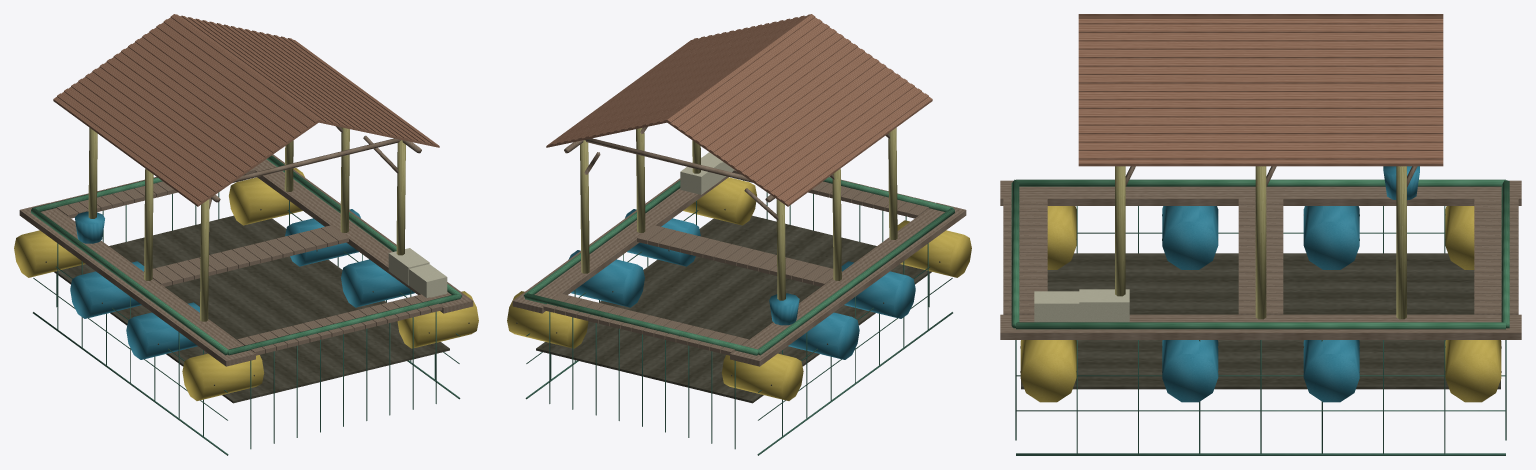
Rendered from bung-raft-0-rust.glb.
The picture shows the model from 3 angles, left to right: view 1: azimuth 30°, elevation 25°; view 2: azimuth 150°, elevation 25°; view 3: azimuth 270°, elevation 25°; orthographic projection. The views are drawn at different scales.
Visible parts, largest first — view 1: bung-raft-0-rust; view 2: bung-raft-0-rust; view 3: bung-raft-0-rust.
Part boxes in pixels (left/top/right/bottom): bung-raft-0-rust: left=14, top=14, right=478, bottom=455; bung-raft-0-rust: left=507, top=14, right=971, bottom=455; bung-raft-0-rust: left=1000, top=14, right=1521, bottom=455.
Bounding box in the file's own units: 4.14 × 4.18 × 5.4.
1 material, 1 textured.
